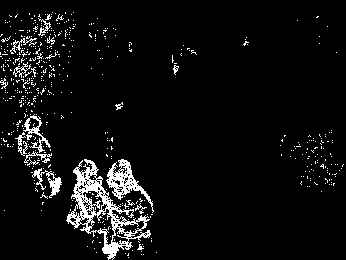person: (64, 158, 121, 257), (104, 158, 153, 260), (18, 116, 62, 201)
